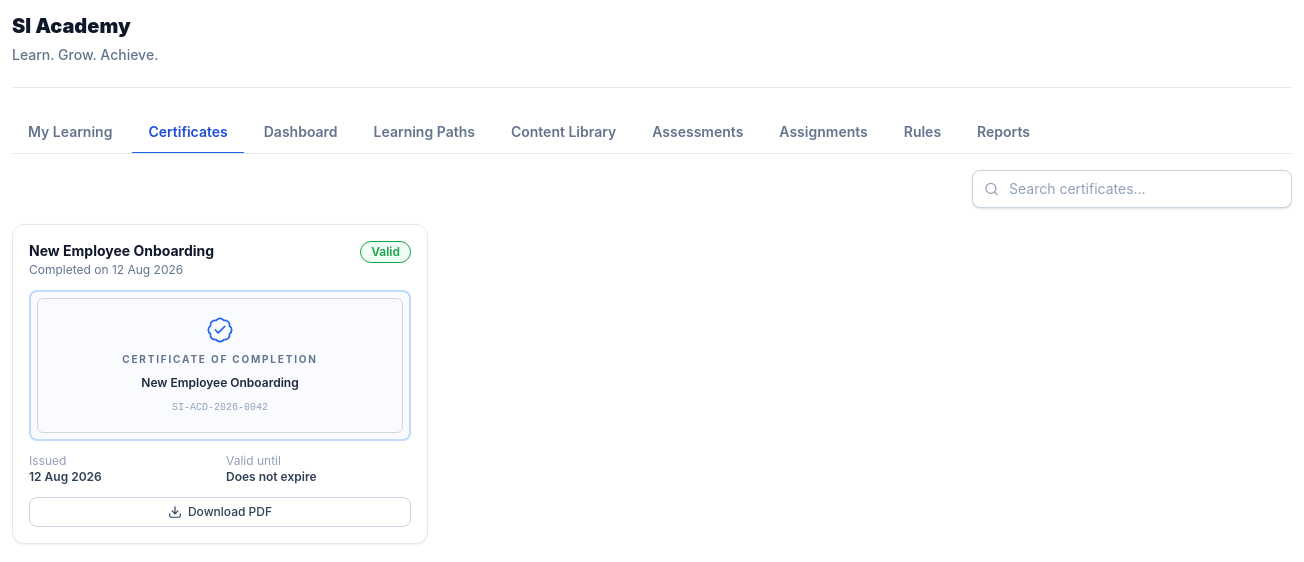
it: certificates › finds a certificate by its number, which is what people are given
Check: the text "SI-ACD-2026-0042" is shown, box [172,400,268,414]
Type "0042" into the search field labelled "Search certificates" at {"x": 1132, "y": 189}, box [972,170,1292,208]
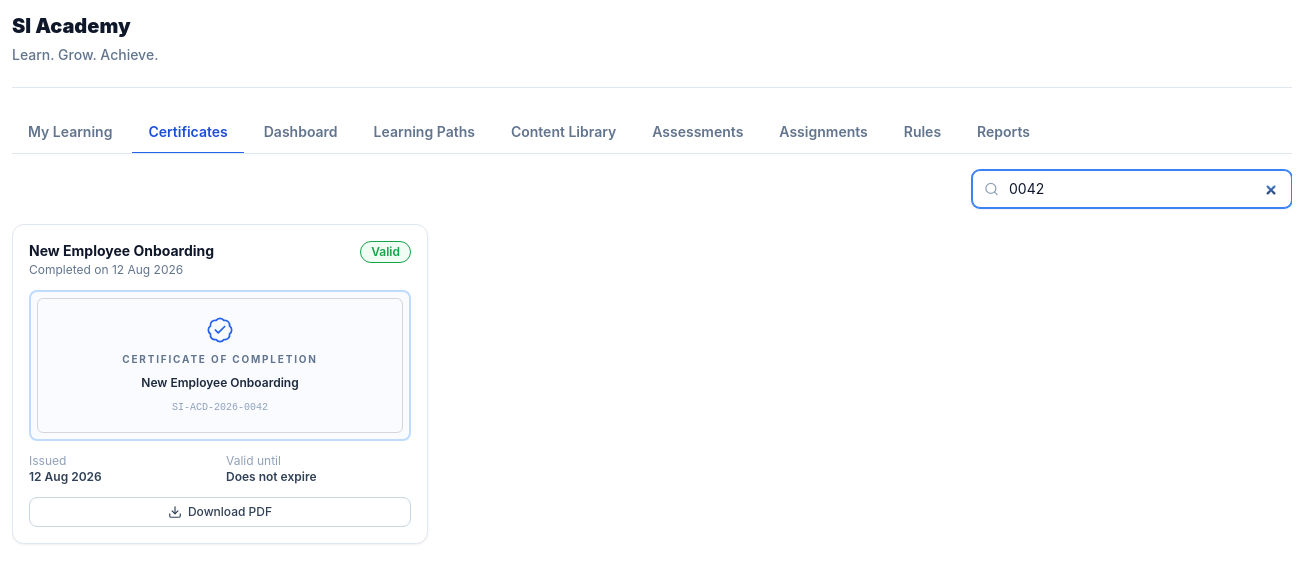
Check: the text "SI-ACD-2026-0042" is shown, box [172,400,268,414]
Replace the text in the search field named "Search certificates" with "nothing-like-this" at {"x": 1132, "y": 189}, box [972,170,1292,208]
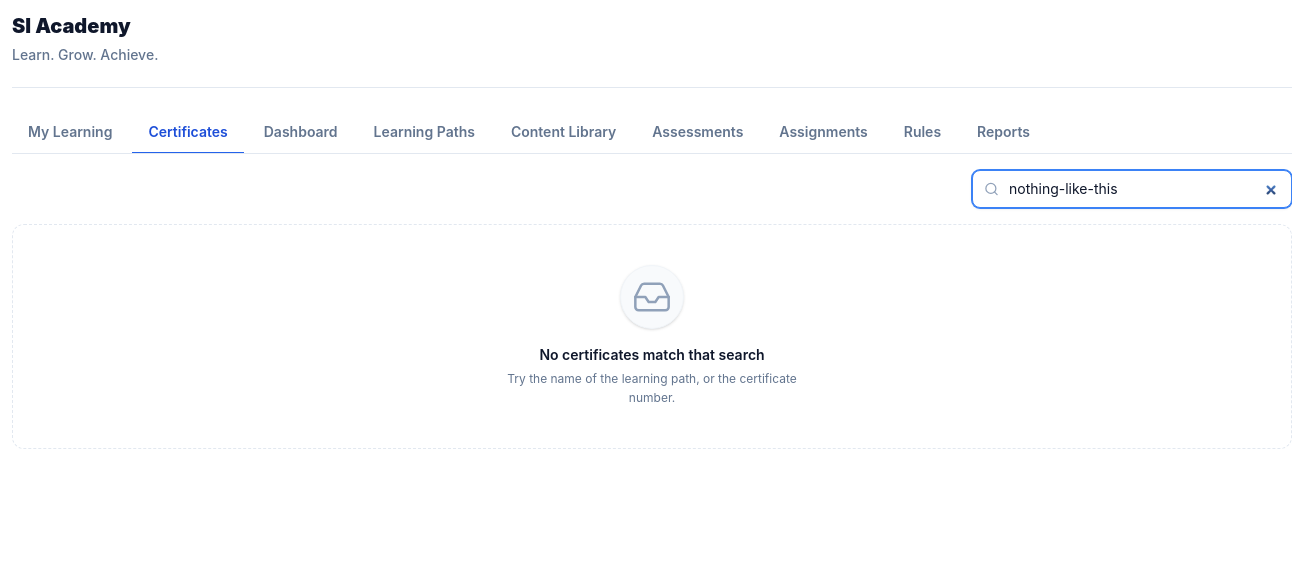
Check: the heading "No certificates match that search" is shown, box [539,345,765,365]
